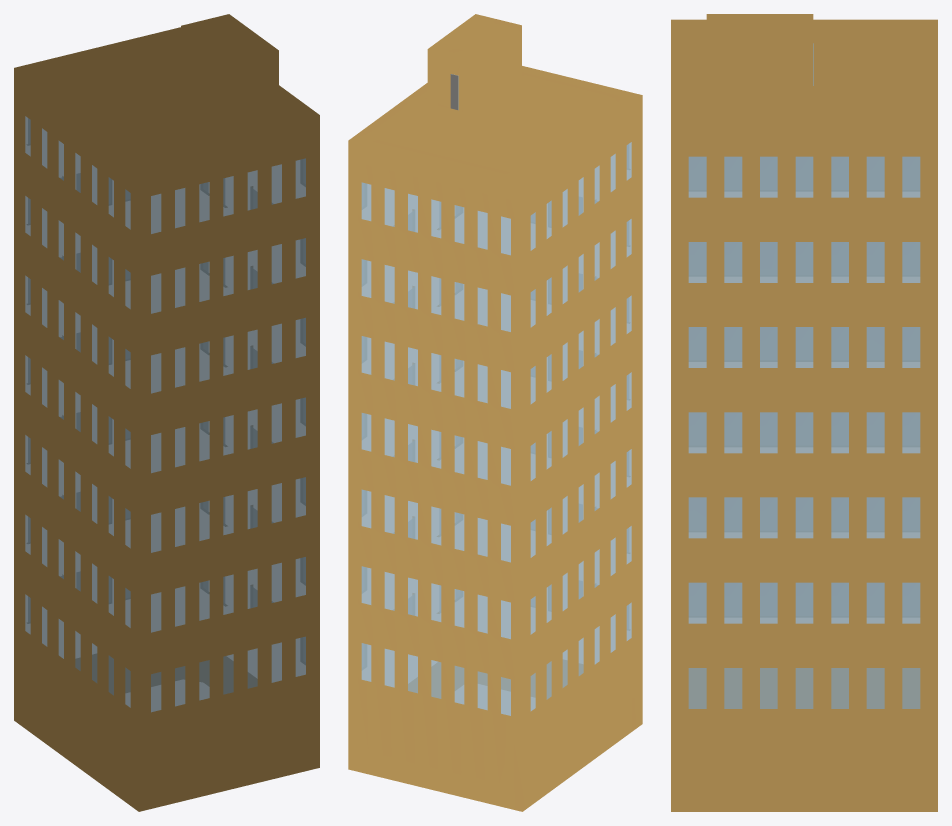
The picture shows the model from 3 angles, left to right: view 1: azimuth 30°, elevation 25°; view 2: azimuth 150°, elevation 25°; view 3: azimuth 270°, elevation 25°; orthographic projection. The views are drawn at different scales.
Parts seen in each view (by area): view 1: Cube.022; view 2: Cube.022; view 3: Cube.022.
Boxes of the visible parts, left/top/right/bottom form: Cube.022: left=14, top=14, right=319, bottom=811; Cube.022: left=348, top=14, right=642, bottom=811; Cube.022: left=671, top=14, right=937, bottom=811.
Bounding box in the file's own units: 35.2 × 132 × 42.05.
